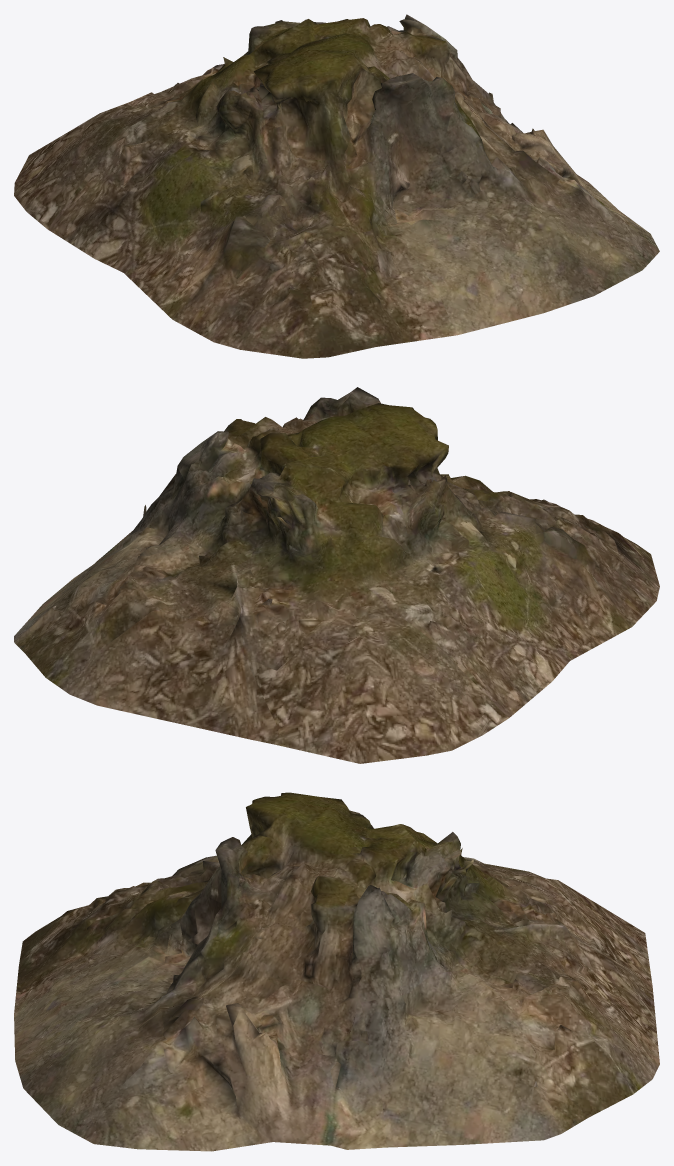
The model's file is tree_stump_01.glb.
3 renders of one model, top to bottom at view 1: azimuth 30°, elevation 25°; view 2: azimuth 150°, elevation 25°; view 3: azimuth 270°, elevation 25°, orthographic. The views are drawn at different scales.
Visible parts, largest first — view 1: tree_stump_01; view 2: tree_stump_01; view 3: tree_stump_01.
Part boxes in pixels (box(x1,y1,x2,y2)): tree_stump_01: box(14, 14, 659, 358); tree_stump_01: box(14, 387, 659, 763); tree_stump_01: box(14, 792, 659, 1151).
Size of the model in its own units: 1.43 by 0.57 by 1.59.
Materials: 1 (1 with a texture image).
